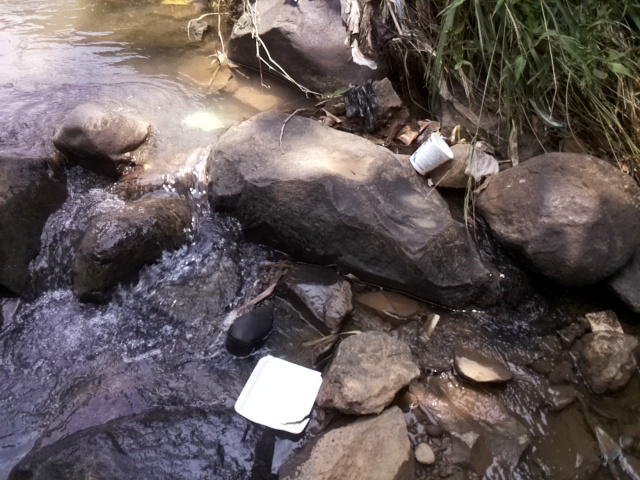Sampah_Plastik: (466, 142, 500, 184)
Sampah_Styrofoam: (231, 349, 320, 438), (409, 129, 455, 178)
